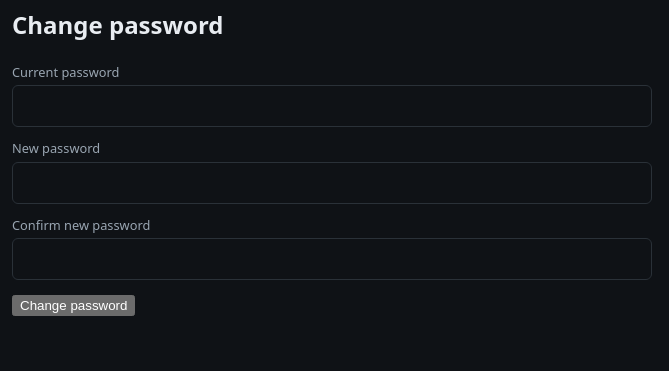
Test: ChangePasswordCard › proves the current password and submits a new one
In the password field labelled "Current password": (332, 106) [12,85,652,127], type "old-password-12"
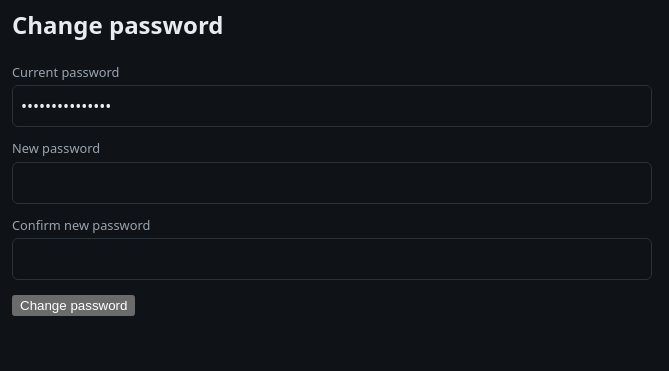
In the password field labelled "New password": (332, 183) [12,162,652,204], type "a-brand-new-password"
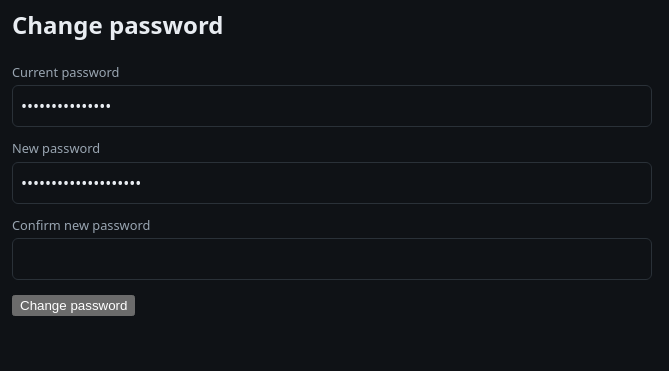
In the password field labelled "Confirm new password": (332, 259) [12,238,652,280], type "a-brand-new-password"
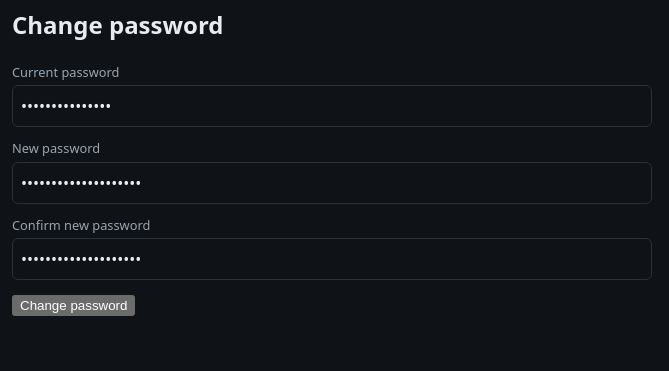
Click the button "Change password": (74, 305) [12,295,135,316]
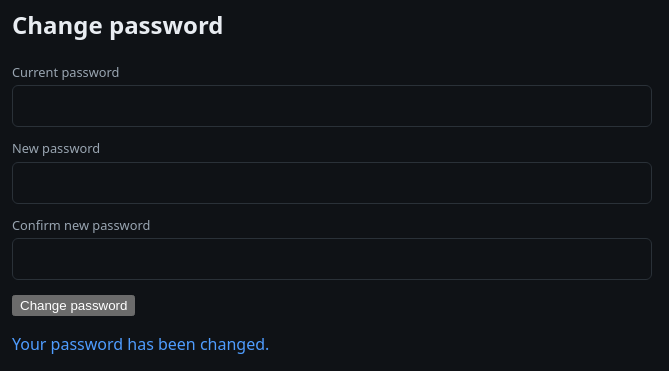
Now the text "Your password has been changed." is shown, box [12,333,269,355]
